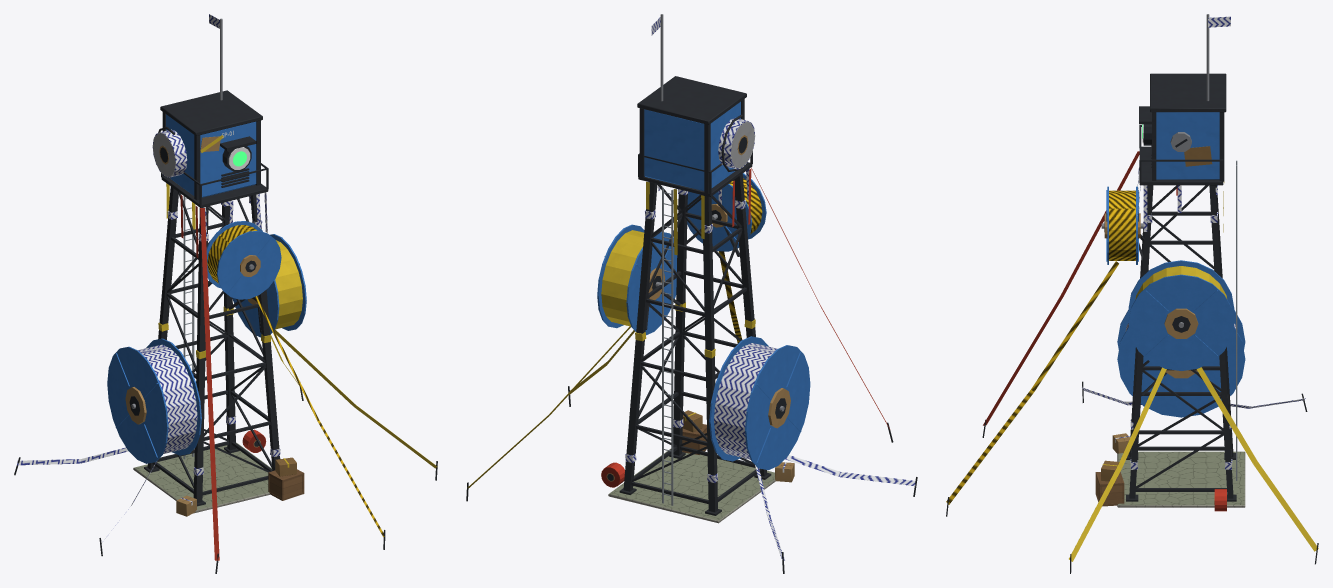
The model's file is spooler_reel_tower.glb.
3 views of the same model, side by side, from view 1: azimuth 30°, elevation 25°; view 2: azimuth 150°, elevation 25°; view 3: azimuth 270°, elevation 25° (orthographic). The views are drawn at different scales.
Parts seen in each view (by area): view 1: spooler_reel_tower; view 2: spooler_reel_tower; view 3: spooler_reel_tower.
Part boxes in pixels (<box>): spooler_reel_tower: <box>14,14,437,573</box>; spooler_reel_tower: <box>466,14,917,573</box>; spooler_reel_tower: <box>946,14,1318,573</box>.
Size of what is drawn, in the model's own units: 16.64 by 21.57 by 15.16.
Materials: 23 (22 with a texture image).
